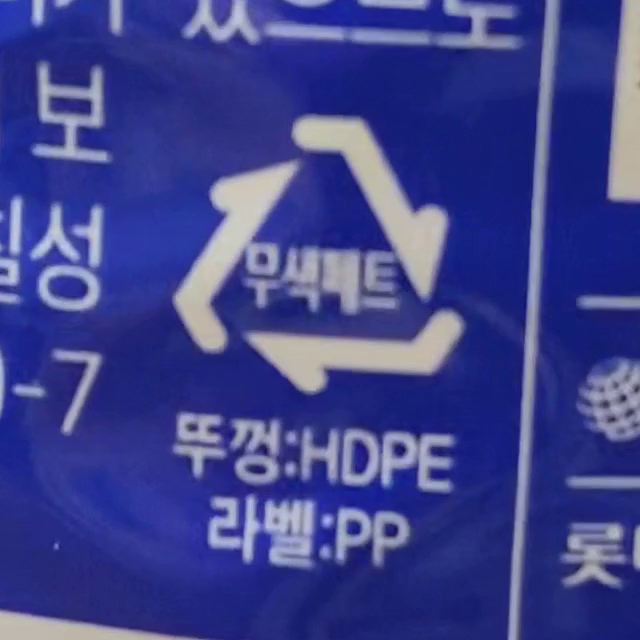ColorlessPet: (179, 116, 465, 391)
